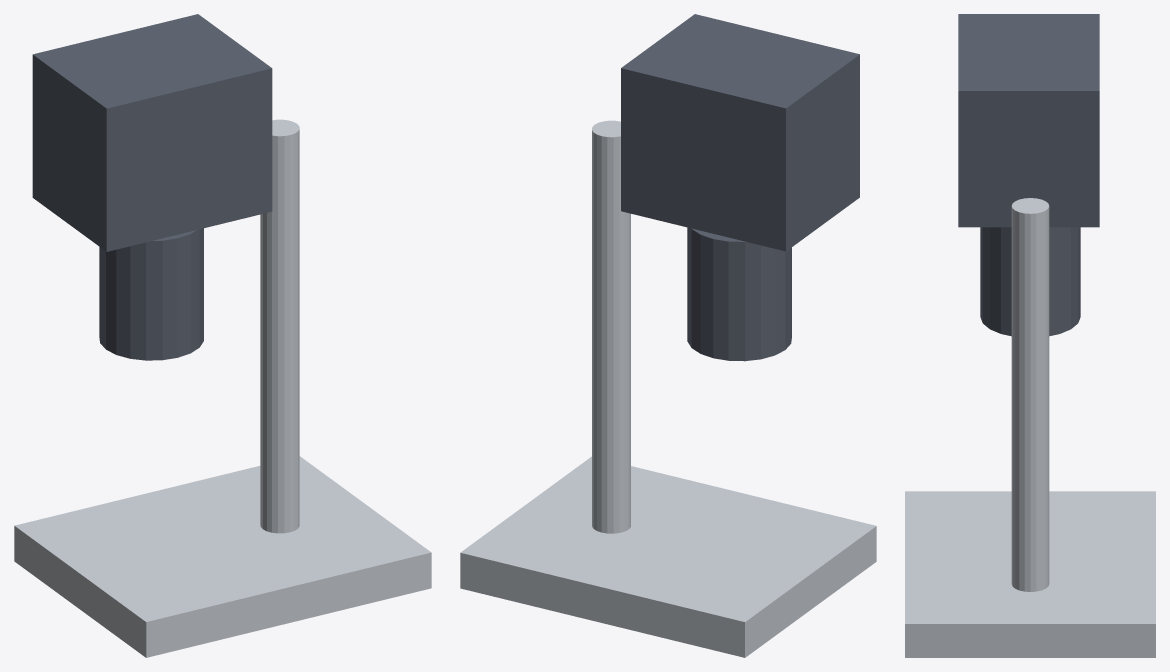
The model's file is camera.glb.
3 views of the same model, side by side, from view 1: azimuth 30°, elevation 25°; view 2: azimuth 150°, elevation 25°; view 3: azimuth 270°, elevation 25° (orthographic). The views are drawn at different scales.
Visible parts, largest first — view 1: silver stand foot, black camera housing, silver camera stand, black lens; view 2: silver stand foot, black camera housing, silver camera stand, black lens; view 3: silver stand foot, black camera housing, silver camera stand, black lens.
Boxes of the visible parts, x1=… form: silver stand foot: x1=14, y1=456, x2=431, y2=657; black camera housing: x1=32, y1=14, x2=272, y2=251; silver camera stand: x1=260, y1=119, x2=299, y2=533; black lens: x1=99, y1=228, x2=203, y2=360; silver stand foot: x1=460, y1=456, x2=876, y2=657; black camera housing: x1=621, y1=14, x2=859, y2=251; silver camera stand: x1=592, y1=120, x2=630, y2=533; black lens: x1=687, y1=227, x2=791, y2=361; silver stand foot: x1=905, y1=491, x2=1155, y2=657; black camera housing: x1=958, y1=14, x2=1099, y2=227; silver camera stand: x1=1011, y1=198, x2=1049, y2=591; black lens: x1=980, y1=227, x2=1080, y2=336.
Bounding box in the file's own units: 0.104 × 0.178 × 0.08.
